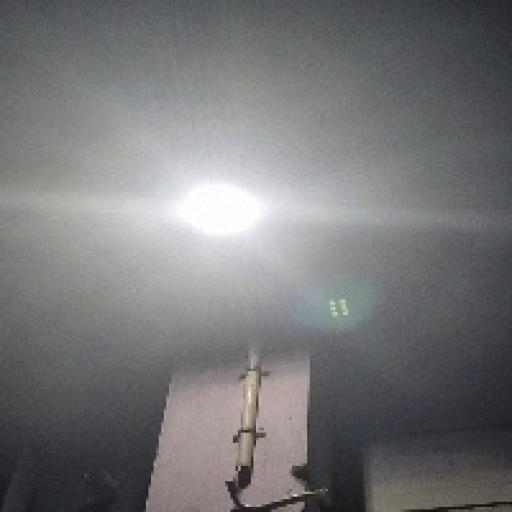Working: (174, 169, 272, 258)
